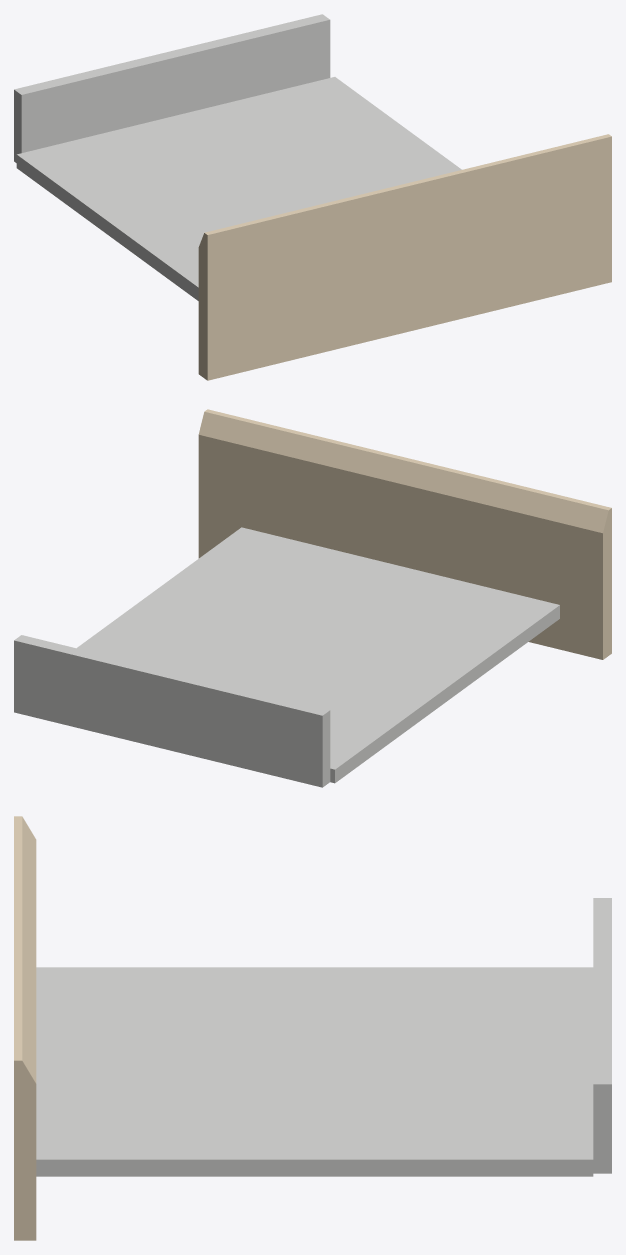
Rendered from skuff_N2_3.glb.
The picture shows the model from 3 angles, top to bottom: view 1: azimuth 30°, elevation 25°; view 2: azimuth 150°, elevation 25°; view 3: azimuth 270°, elevation 25°; orthographic projection. The views are drawn at different scales.
Size of the model in its own units: 494 by 170 by 511.
